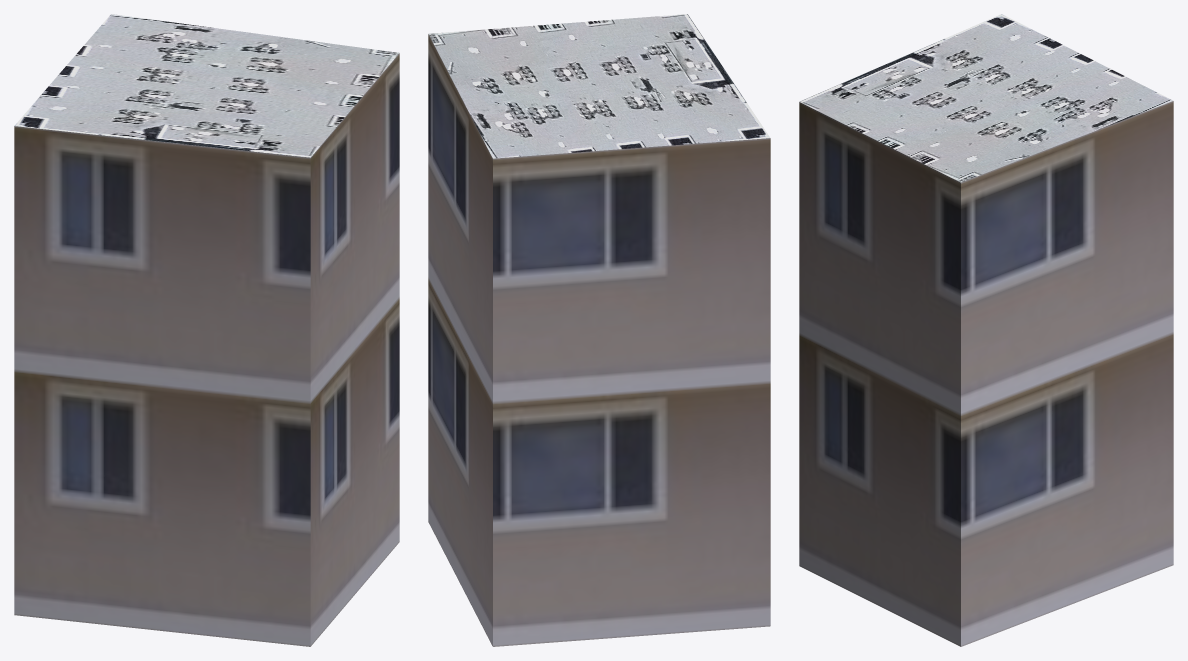
Rendered from ResTex__1040.fbx.
3 renders of one model, left to right at view 1: azimuth 30°, elevation 25°; view 2: azimuth 150°, elevation 25°; view 3: azimuth 270°, elevation 25°, orthographic. The views are drawn at different scales.
Parts seen in each view (by area): view 1: CityEngineMaterial_21_m, CityEngineMaterial_4_m; view 2: CityEngineMaterial_21_m, CityEngineMaterial_4_m; view 3: CityEngineMaterial_21_m, CityEngineMaterial_4_m.
Part boxes in pixels (x1,y1,x2,y2): CityEngineMaterial_21_m: [14, 53, 399, 646]; CityEngineMaterial_4_m: [14, 14, 399, 157]; CityEngineMaterial_21_m: [428, 34, 770, 646]; CityEngineMaterial_4_m: [428, 14, 769, 158]; CityEngineMaterial_21_m: [799, 101, 1173, 646]; CityEngineMaterial_4_m: [799, 14, 1173, 182].
Bounding box in the file's own units: 4.67 × 6 × 4.39.
2 materials, 2 textured.
